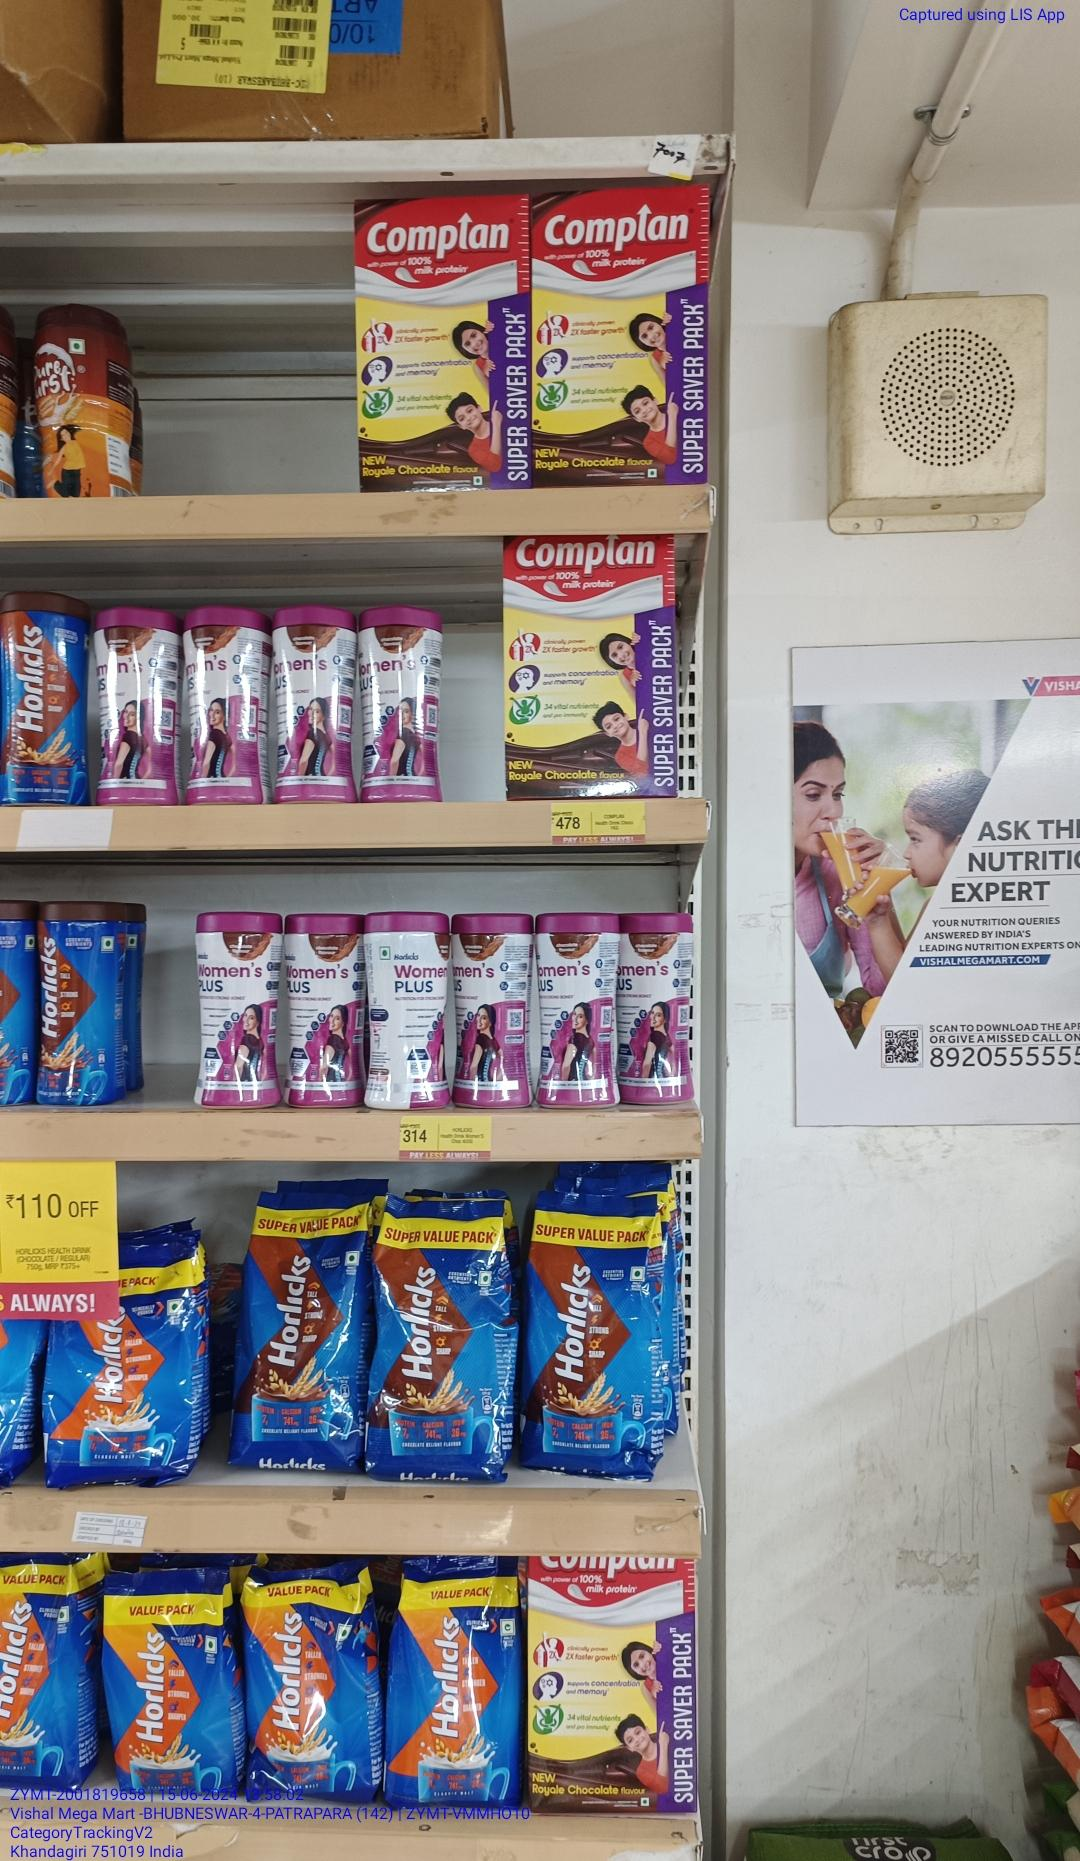COMPLAN_CHOCOLATE_1_KG_PACK: (532, 188, 716, 483), (355, 191, 527, 490), (503, 531, 678, 796), (526, 1555, 702, 1816)
HORLICK_CHOCOLATE_1_KG_JAR: (0, 585, 89, 806)
HORLICK_CHOCOLATE_500_G_JAR: (37, 902, 123, 1108)
HORLICK_CHOCOLATE_750_G_POUCH: (525, 1208, 676, 1487), (365, 1203, 516, 1479), (242, 1202, 357, 1473)
